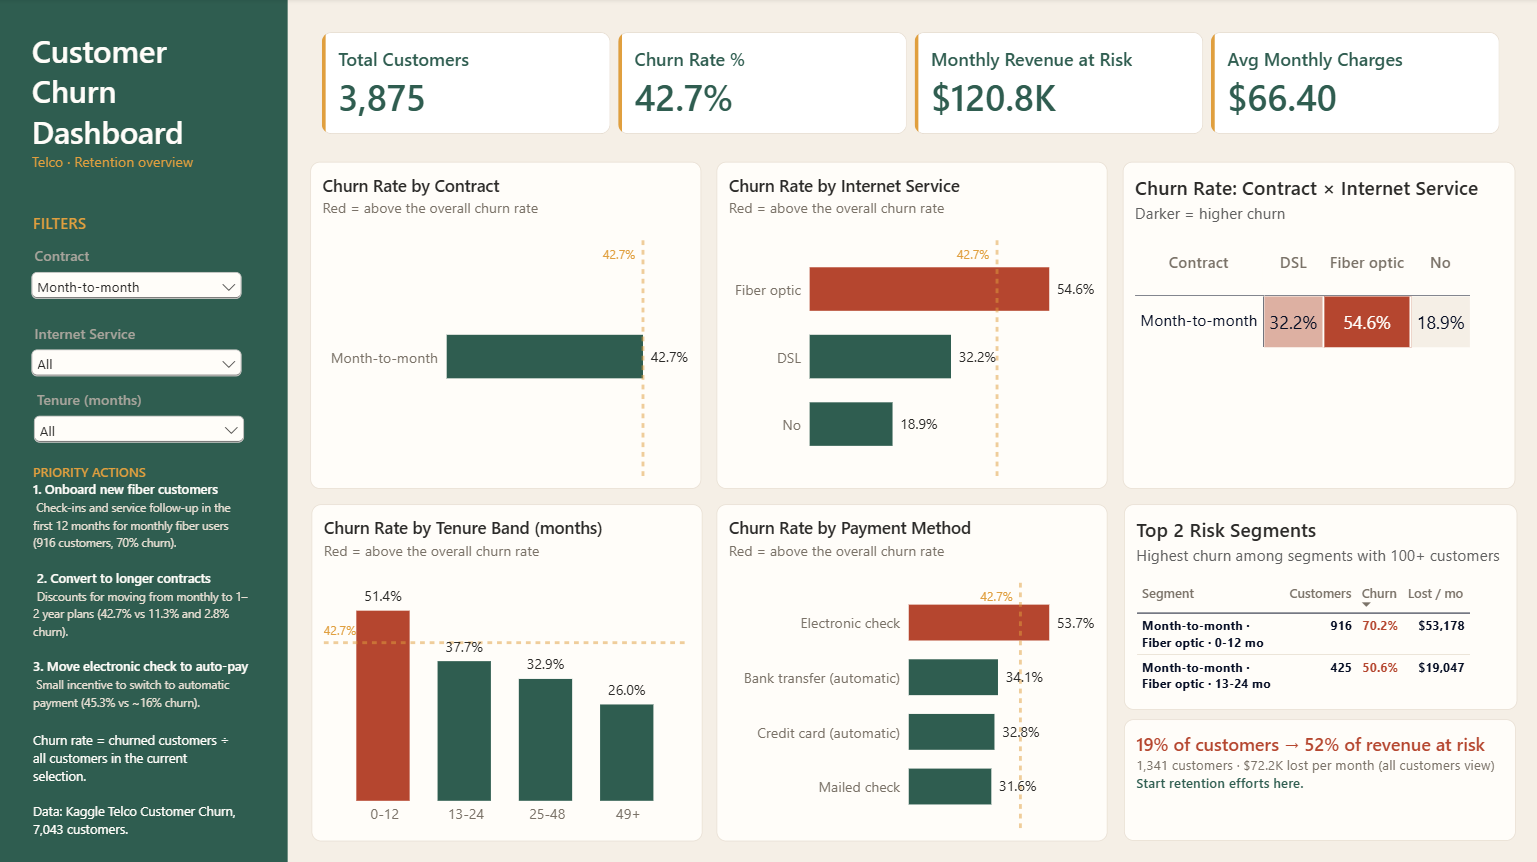

The page's visual inventory and layout, read from the dashboard file:
{"tool":"powerbi","page":{"name":"Churn dashboard","canvas":[1600,900],"ordinal":0},"visuals":[{"type":"shape","box":[0,0,300,900],"z":0},{"type":"textbox","box":[21.8,20.3,254.4,208],"z":1},{"type":"textbox","box":[24,210,200,47],"z":2},{"type":"textbox","box":[24,750,240,150],"z":3},{"type":"slicer","fields":{"Values":["DimContract.Contract"]},"box":[17.4,245.6,252,70],"z":4},{"type":"slicer","fields":{"Values":["DimInternetService.InternetService"]},"box":[17.4,325.6,252,70],"z":5},{"type":"slicer","fields":{"Values":["Telco.TenureBand"]},"box":[18.9,395.3,252,70],"z":6},{"type":"cardVisual","fields":{"Data":["Telco.Total Customers","Telco.Churn Rate %","Telco.Monthly Revenue at Risk","Telco.Avg Monthly Charges"]},"box":[324,24,1250,130],"z":7},{"type":"clusteredBarChart","title":"Churn Rate by Contract","fields":{"Category":["DimContract.Contract"],"Y":["Telco.Churn Rate %"]},"box":[324,170,406,340],"z":8},{"type":"clusteredBarChart","title":"Churn Rate by Internet Service","fields":{"Category":["DimInternetService.InternetService"],"Y":["Telco.Churn Rate %"]},"box":[746,170.1,406,340],"z":9},{"type":"clusteredBarChart","title":"Churn Rate by Payment Method","fields":{"Category":["DimPaymentMethod.PaymentMethod"],"Y":["Telco.Churn Rate %"]},"box":[746,526,406,350],"z":10},{"type":"clusteredColumnChart","title":"Churn Rate by Tenure Band (months)","fields":{"Category":["Telco.TenureBand"],"Y":["Telco.Churn Rate %"]},"box":[324.1,526.2,406,350],"z":11},{"type":"pivotTable","title":"Churn Rate: Contract × Internet Service","fields":{"Columns":["Telco.InternetService"],"Rows":["Telco.Contract"],"Values":["Telco.Churn Rate %"]},"box":[1168,170.1,408,340],"z":12},{"type":"tableEx","title":"Top 2 Risk Segments","fields":{"Values":["Telco.Segment","Telco.Total Customers","Telco.Churn Rate %","Telco.Monthly Revenue at Risk"]},"box":[1168.6,526.2,408.4,213.7],"z":13},{"type":"textbox","box":[1168.6,750,407,126.5],"z":14},{"type":"textbox","box":[24,470,252,300],"z":15}]}

Visuals, with their boxes in screenshot pixels (x1, y1, x2, y2), scaled from the page's 1600x900 canvas onto the 1537x862 screenshot:
shape: 0:0:288:861
textbox: 21:19:265:219
textbox: 23:201:215:246
textbox: 23:718:254:861
slicer - DimContract.Contract: 17:235:259:302
slicer - DimInternetService.InternetService: 17:312:259:379
slicer - Telco.TenureBand: 18:379:260:446
cardVisual - Telco.Total Customers x Telco.Churn Rate %: 311:23:1512:147
"Churn Rate by Contract" clusteredBarChart: 311:163:701:488
"Churn Rate by Internet Service" clusteredBarChart: 717:163:1107:489
"Churn Rate by Payment Method" clusteredBarChart: 717:504:1107:839
"Churn Rate by Tenure Band (months)" clusteredColumnChart: 311:504:701:839
"Churn Rate: Contract × Internet Service" pivotTable: 1122:163:1514:489
"Top 2 Risk Segments" tableEx: 1123:504:1515:709
textbox: 1123:718:1514:839
textbox: 23:450:265:737
